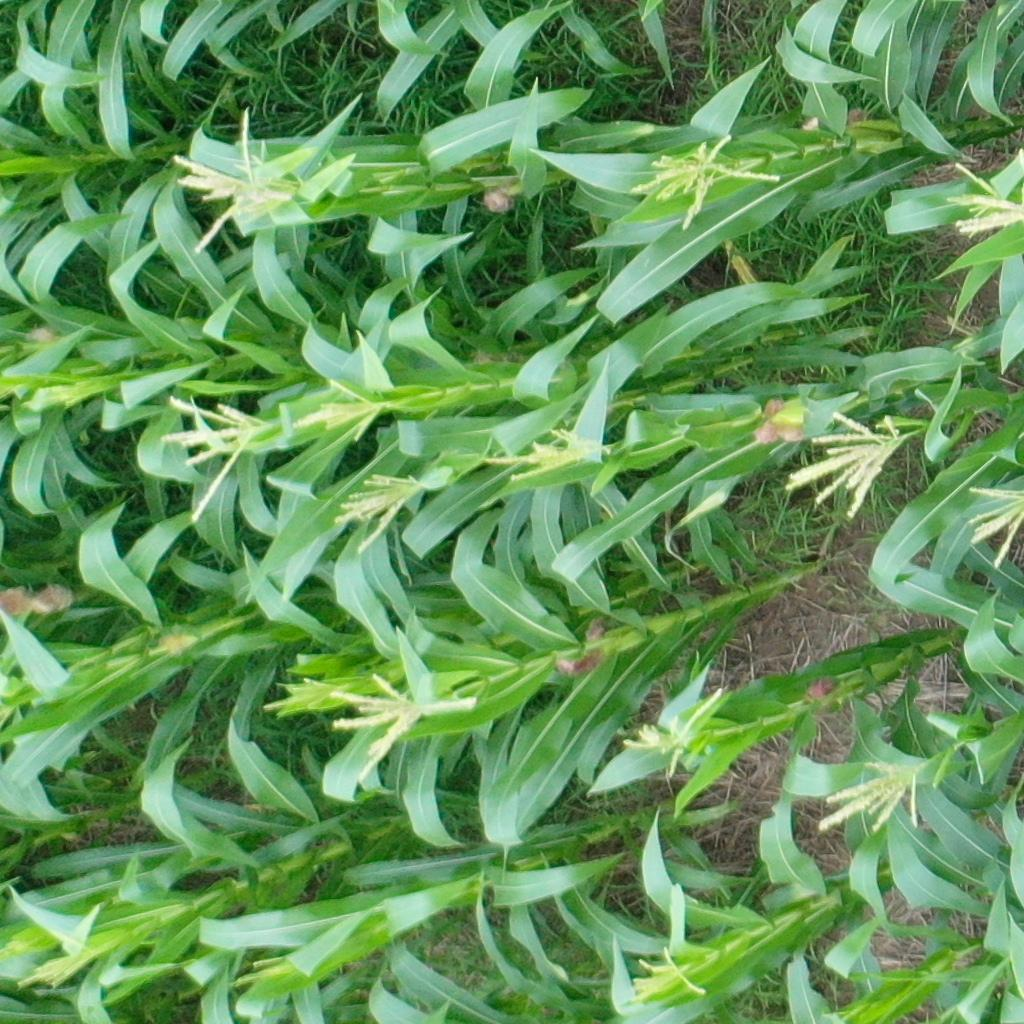Tassel: (162, 100, 306, 256), (325, 668, 480, 783), (780, 395, 920, 521), (149, 388, 275, 523), (631, 131, 780, 230), (613, 687, 726, 780), (329, 464, 426, 558), (819, 755, 926, 836), (477, 421, 605, 488), (284, 377, 385, 446), (617, 939, 711, 1008), (947, 161, 1024, 241), (960, 481, 1024, 570), (9, 949, 90, 996), (257, 675, 344, 715), (213, 952, 297, 990)
